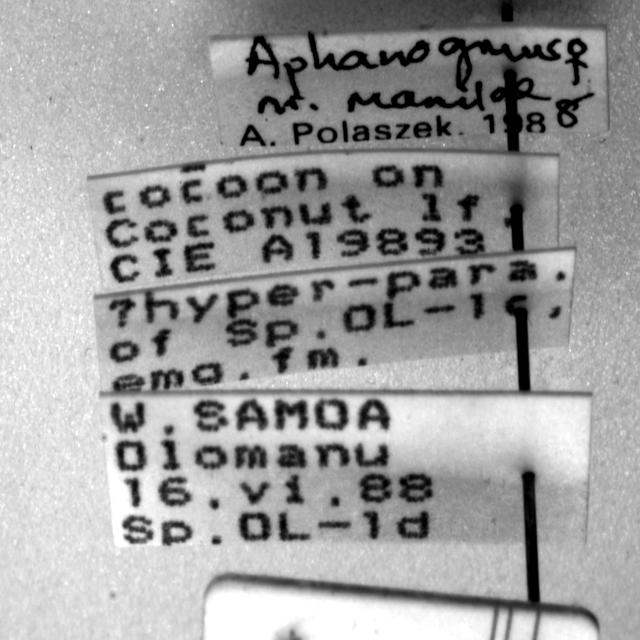mixed_label: (210, 22, 609, 146)
typed_label: (100, 392, 591, 546), (95, 249, 575, 390), (88, 150, 559, 291)
